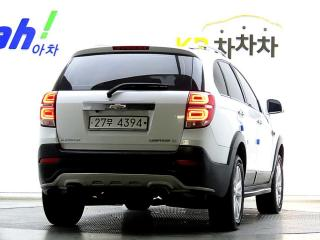2: (94, 117, 100, 128)
3: (124, 118, 130, 127)
4: (117, 118, 124, 127), (136, 118, 143, 127)
7: (100, 117, 106, 127)
9: (129, 118, 137, 128)
plate: (84, 112, 154, 135)
무: (106, 118, 113, 127)
